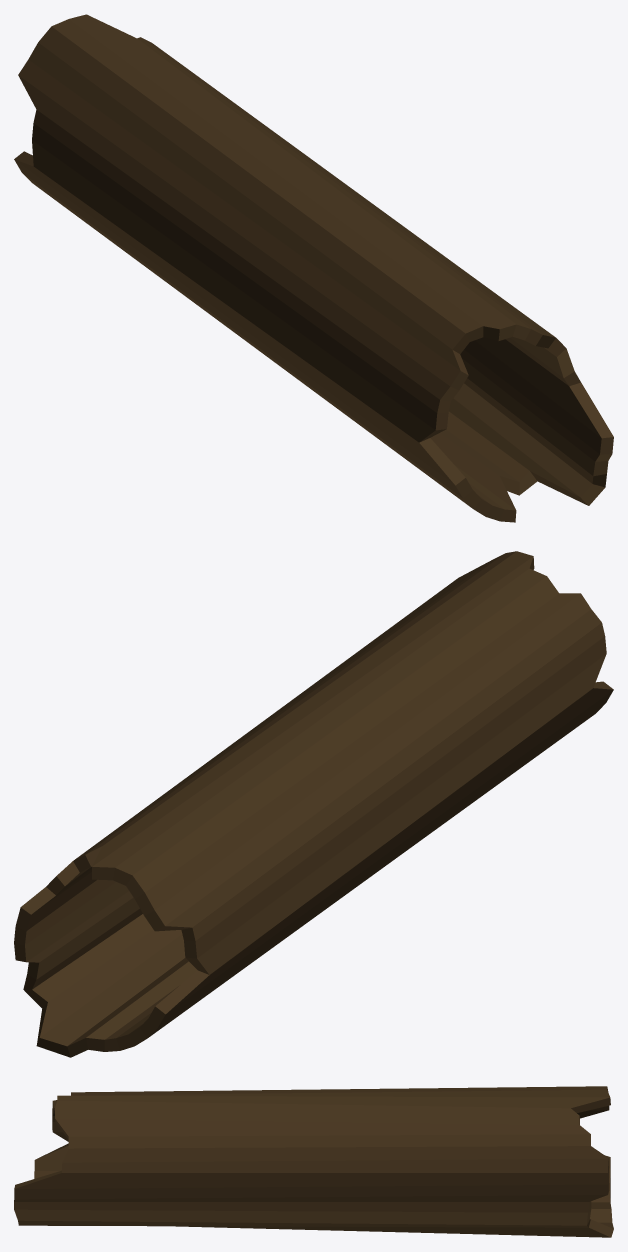
Rendered from deadwood.glb.
The picture shows the model from 3 angles, top to bottom: view 1: azimuth 30°, elevation 25°; view 2: azimuth 150°, elevation 25°; view 3: azimuth 270°, elevation 25°; orthographic projection. The views are drawn at different scales.
Visible parts, largest first — view 1: Wood-col; view 2: Wood-col; view 3: Wood-col.
Part boxes in pixels (<box>): Wood-col: <box>14,14,613,522</box>; Wood-col: <box>14,551,613,1057</box>; Wood-col: <box>14,1086,613,1237</box>.
Size of the model in its own units: 2.06 by 2.26 by 9.66.
